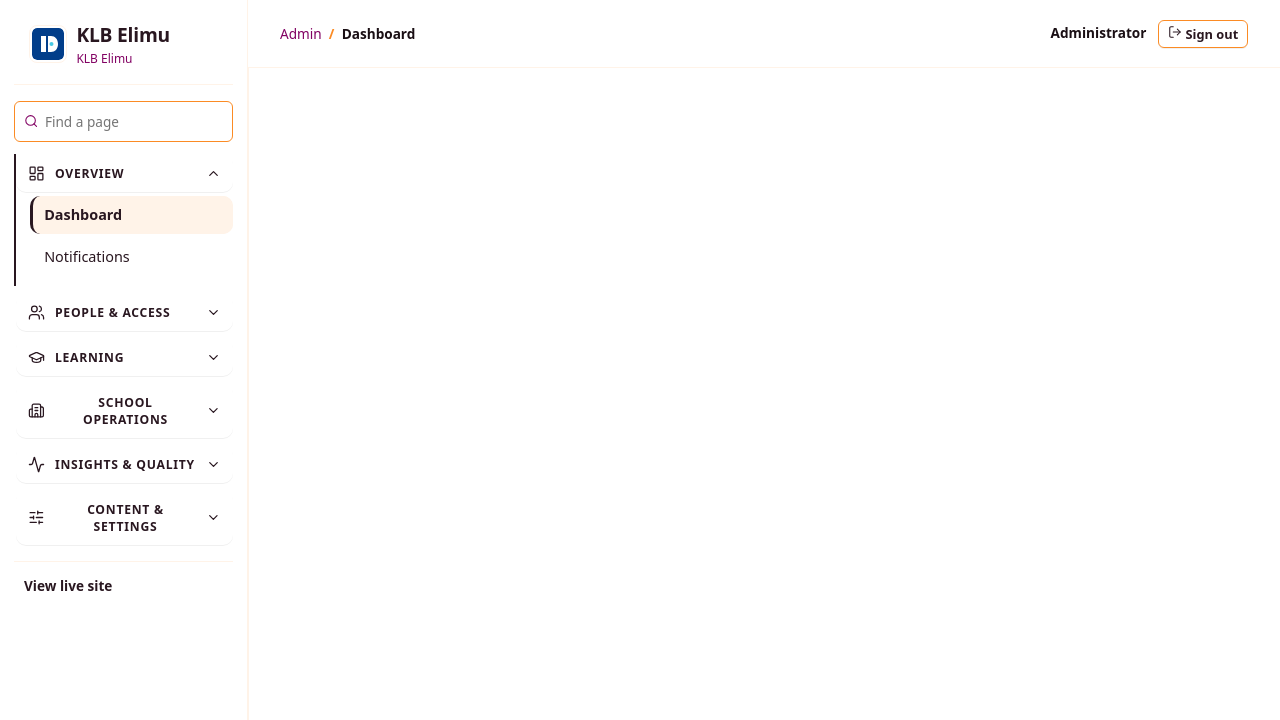
Test case: DashboardLayout capability navigation › shows admin links but no institution management to an admin
Later steps or results of the test are not shown.
Type "Roles" into the search field named "Find an admin page" at (134, 121), box [45,109,223,134]
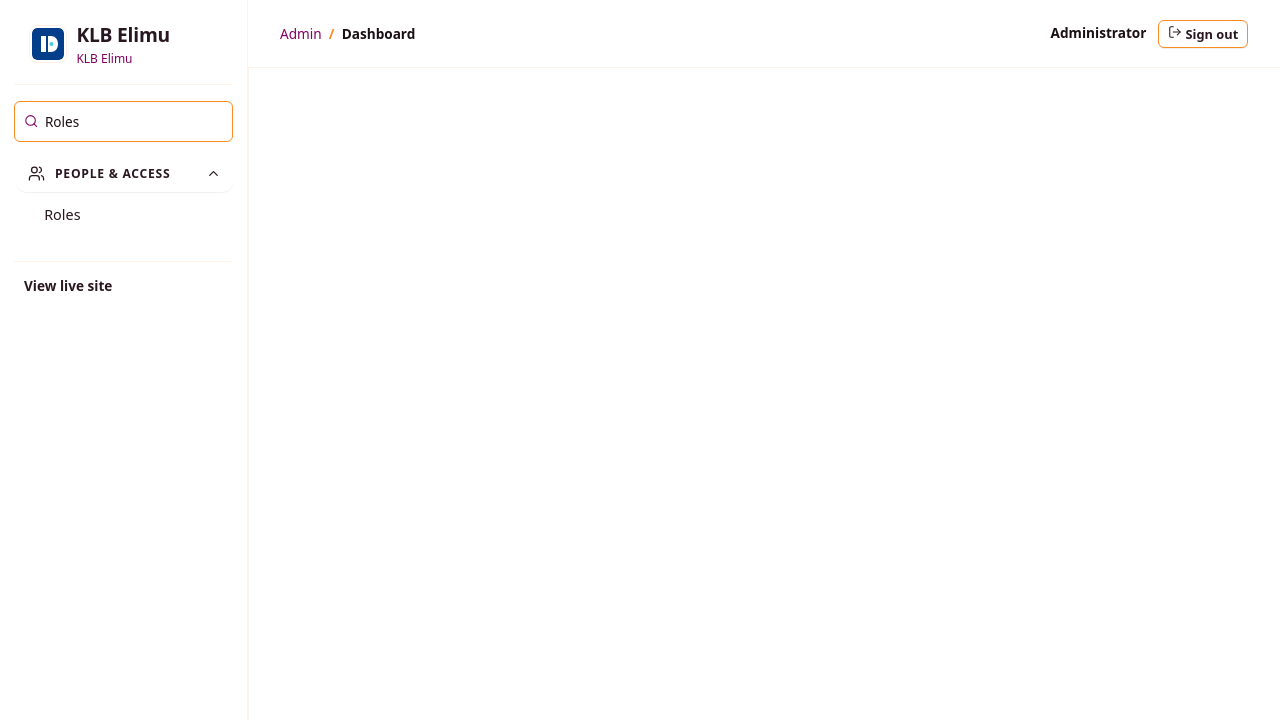
Expected: the link "Roles" is shown, [44,205,81,224]
